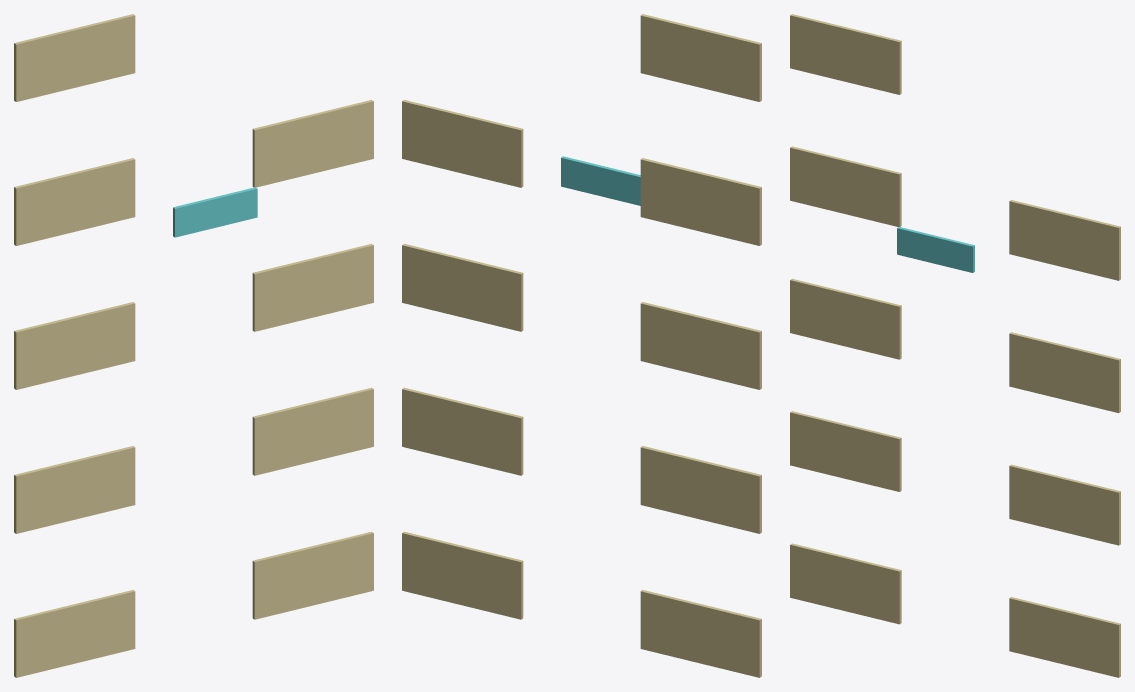
The model's file is Building4_Glow.glb.
The picture shows the model from 3 angles, left to right: view 1: azimuth 30°, elevation 25°; view 2: azimuth 150°, elevation 25°; view 3: azimuth 330°, elevation 25°; orthographic projection. The views are drawn at different scales.
Parts seen in each view (by area): view 1: Building4_Glow; view 2: Building4_Glow; view 3: Building4_Glow.
Boxes of the visible parts, x1,y1,x2,y2 form: Building4_Glow: [14, 14, 373, 677]; Building4_Glow: [402, 14, 761, 677]; Building4_Glow: [790, 14, 1120, 677].
Bounding box in the file's own units: 7.8 × 13.2 × 0.88.
